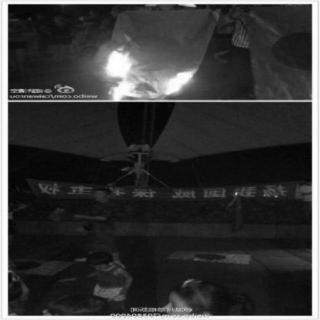Fire: (98, 47, 210, 101)
other: (32, 179, 312, 203)
